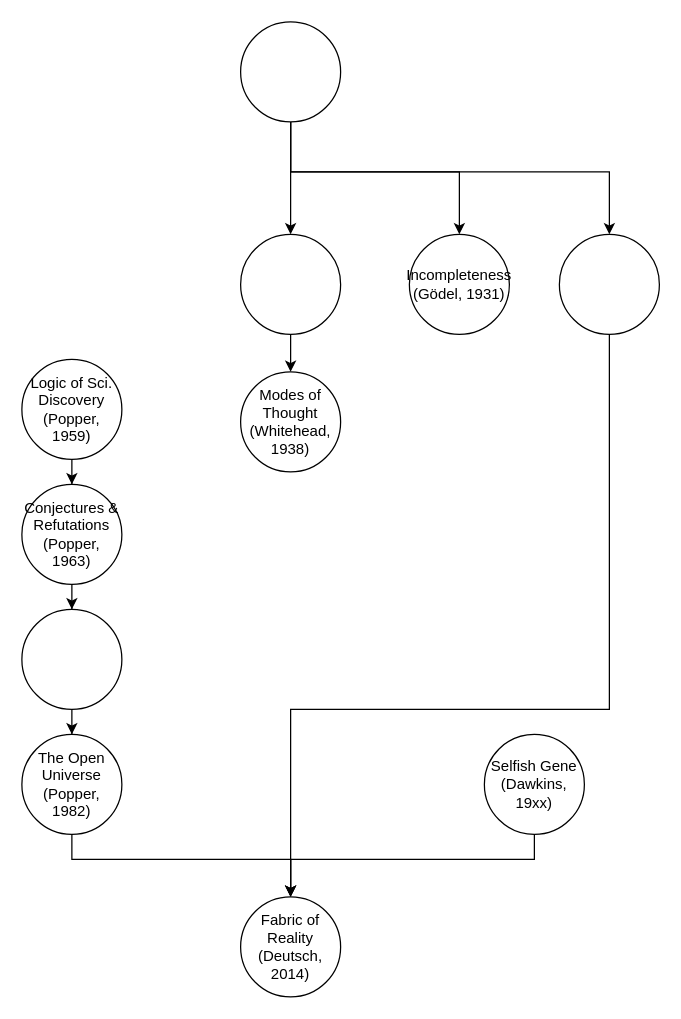
This 681x1019 diagram has some shape labels left out. Each missing label, with the centre of its shape:
"Computability (Turing, 1936)" goes at (608,283).
"Obj. Knowledge: An Evo. Approach (Popper, 1972)" goes at (71,658).
"Principia Mathematica (Russell, Whitehead, 1913)" goes at (290,71).
"Process & Reality (Whitehead, 1929)" goes at (290,283).
